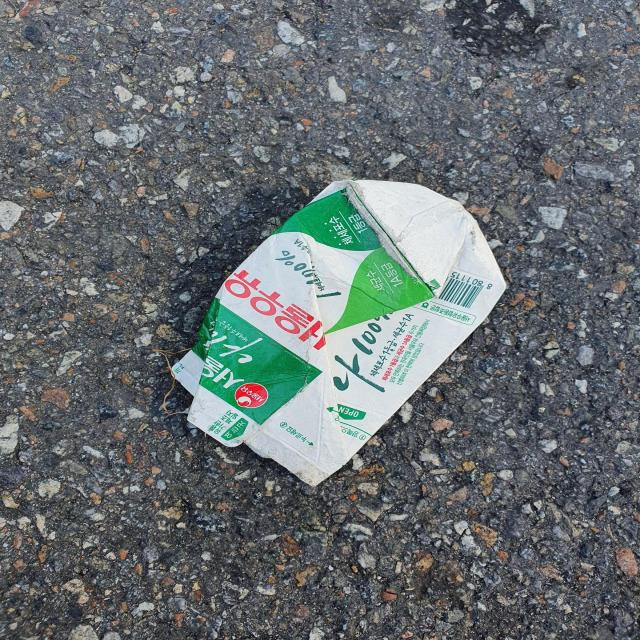paperpack: (173, 180, 506, 486)
